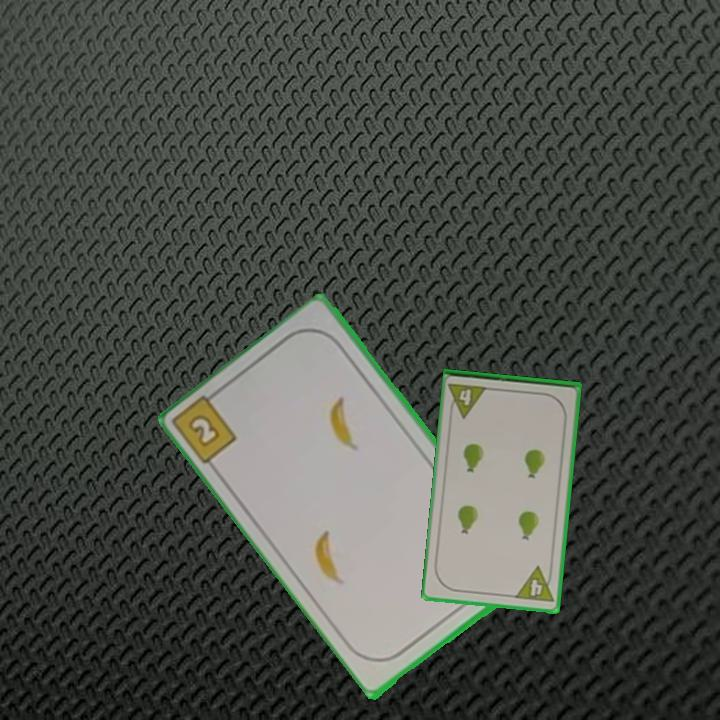2b: (185, 410, 224, 450)
4p: (512, 563, 556, 606), (446, 380, 491, 420)
